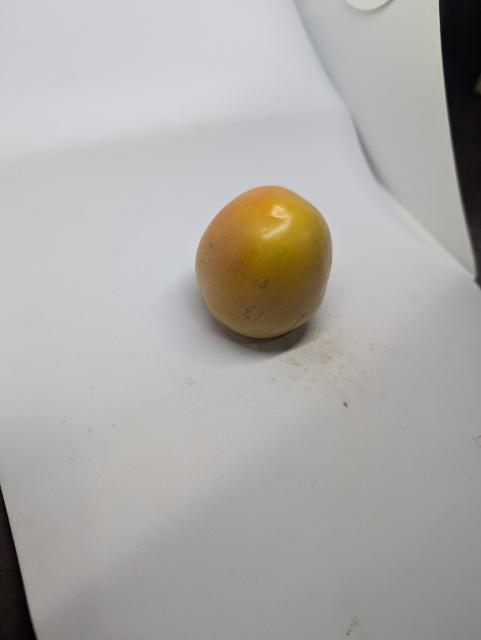turning: (186, 183, 351, 351)
